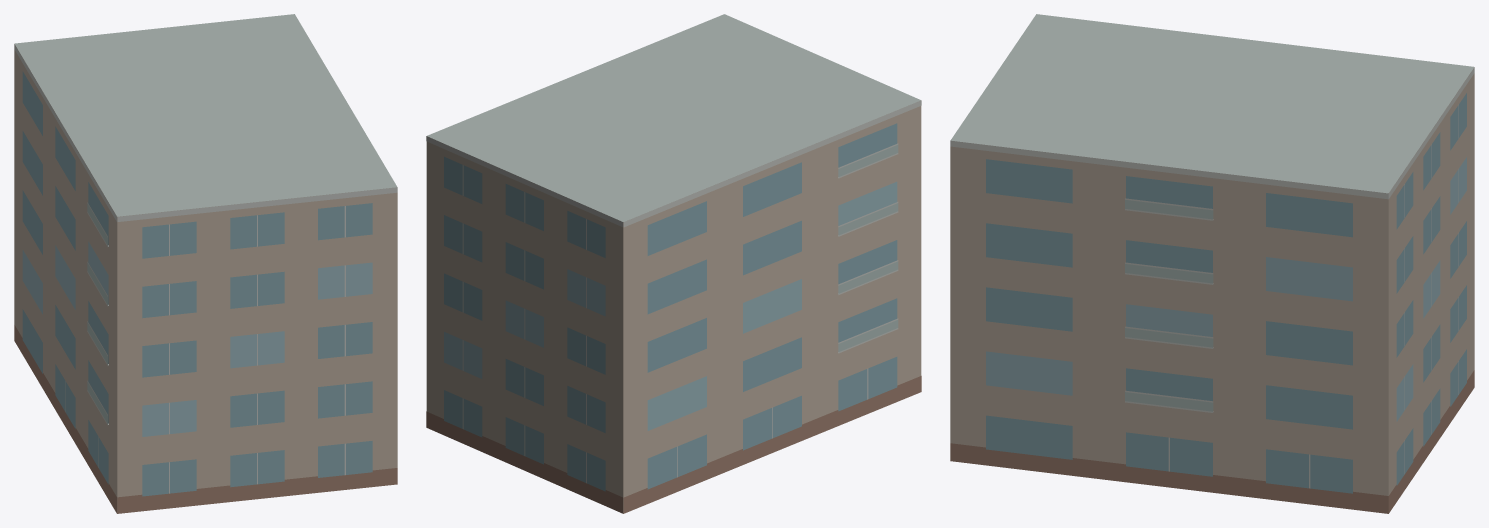
File: survey-upis-32873683.glb
The picture shows the model from 3 angles, left to right: view 1: azimuth 30°, elevation 25°; view 2: azimuth 150°, elevation 25°; view 3: azimuth 270°, elevation 25°; orthographic projection. The views are drawn at different scales.
Parts seen in each view (by area): view 1: survey-upis-32873683.tmp; view 2: survey-upis-32873683.tmp; view 3: survey-upis-32873683.tmp.
Part boxes in pixels (x1,y1,x2,y2): survey-upis-32873683.tmp: (14, 14, 397, 513); survey-upis-32873683.tmp: (426, 14, 921, 513); survey-upis-32873683.tmp: (950, 14, 1474, 513).
Size of the model in its own units: 15.98 by 13.3 by 19.73.
